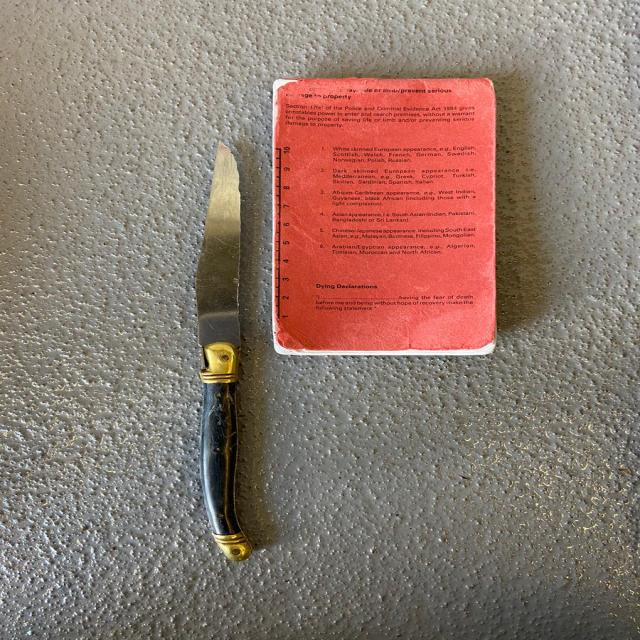Sharp-Object: (197, 143, 257, 559)
